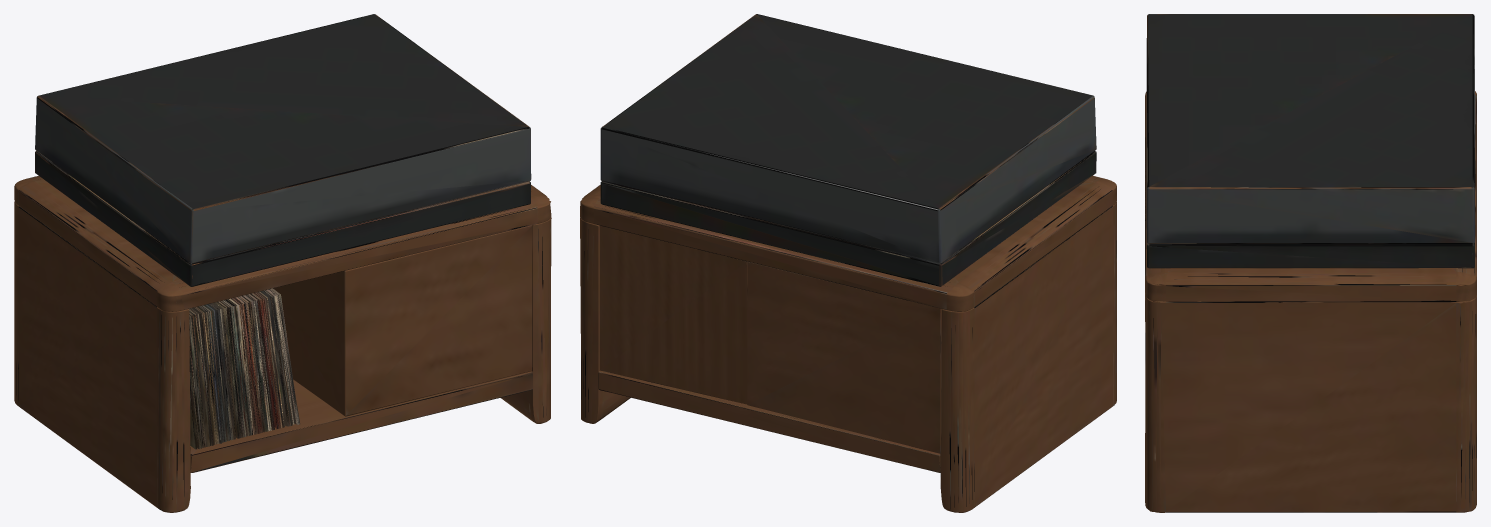
The model's file is desktop.glb.
3 renders of one model, left to right at view 1: azimuth 30°, elevation 25°; view 2: azimuth 150°, elevation 25°; view 3: azimuth 270°, elevation 25°, orthographic. The views are drawn at different scales.
Parts seen in each view (by area): view 1: turntable; view 2: turntable; view 3: turntable.
Boxes of the visible parts, bbox=[...] form: turntable: bbox=[14, 14, 551, 512]; turntable: bbox=[580, 14, 1116, 512]; turntable: bbox=[1145, 14, 1476, 512].
Size of the model in its own units: 0.4501 by 0.3303 by 0.3155.
1 material, 1 textured.
